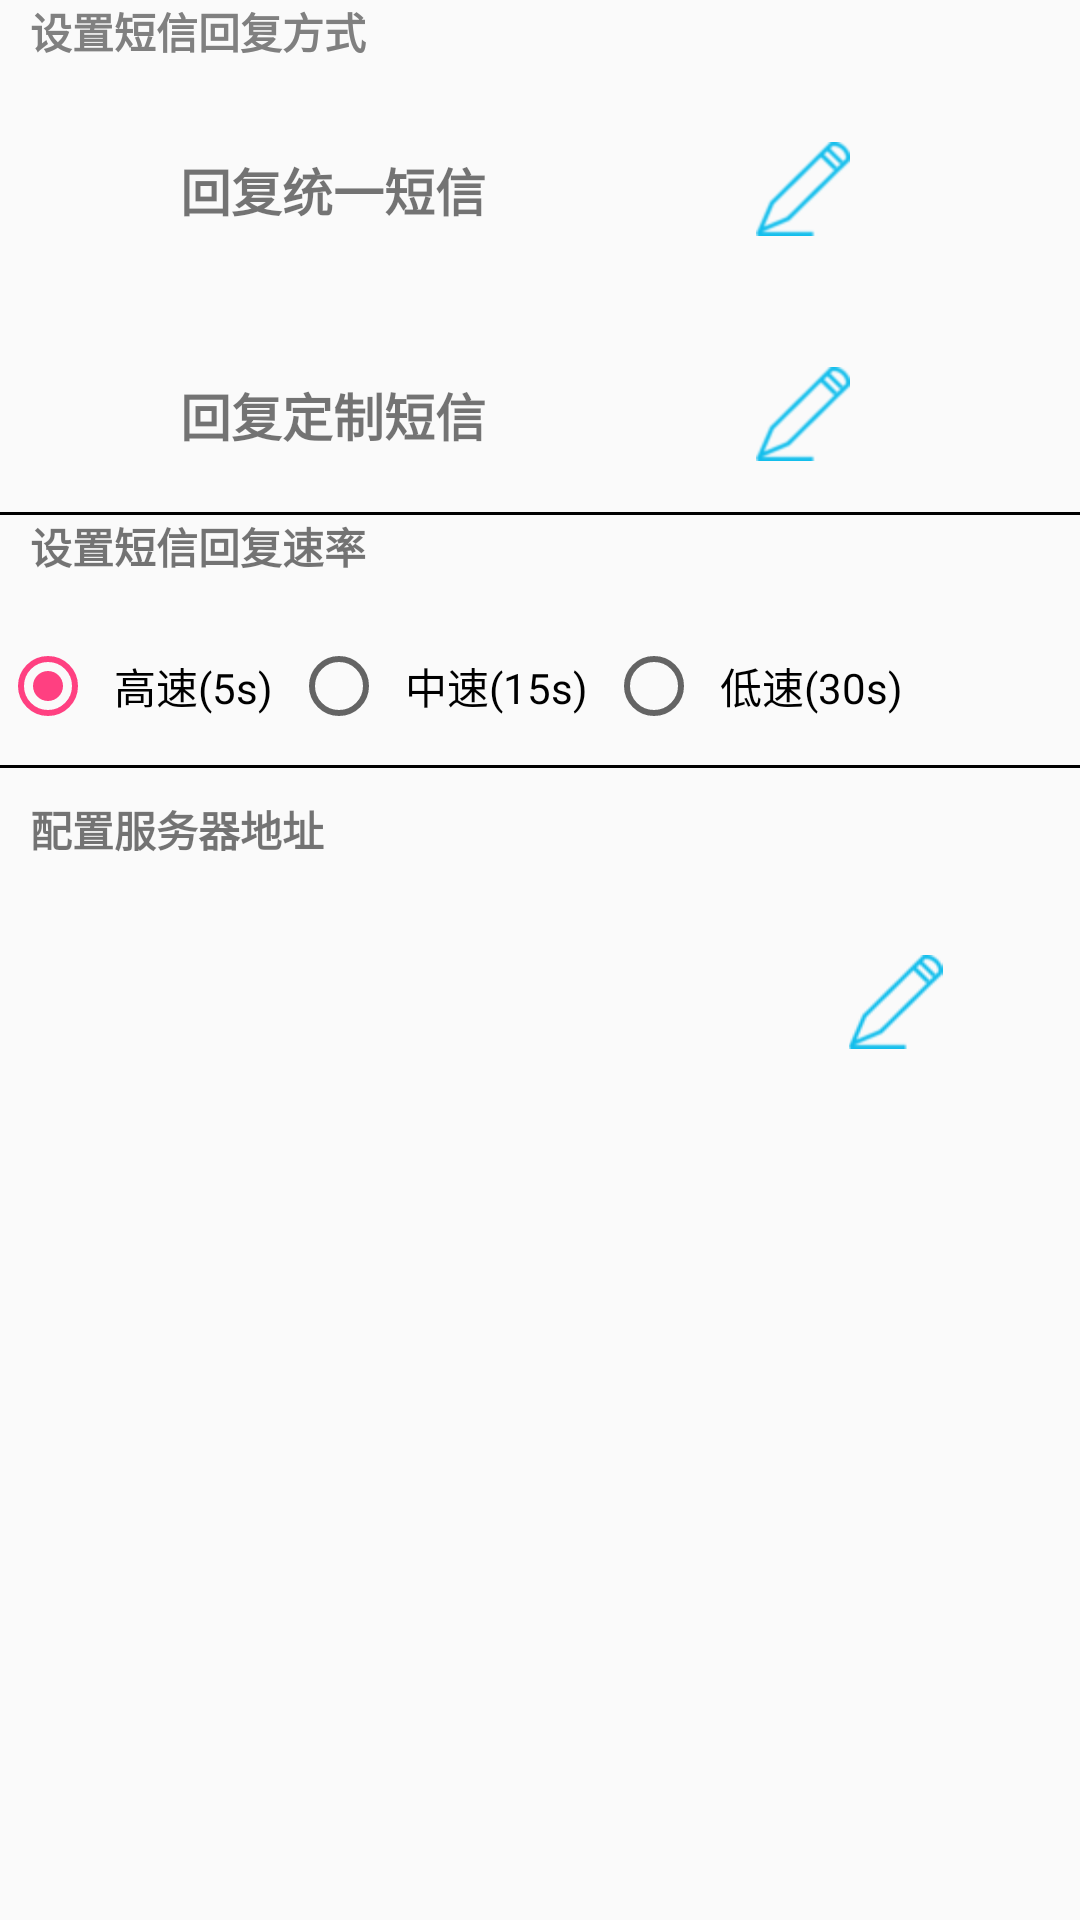

Screen size 1080×1920. Icon name, then its center in pixels as [x,y]:
edit: [803,189], [803,414], [896,1002]
